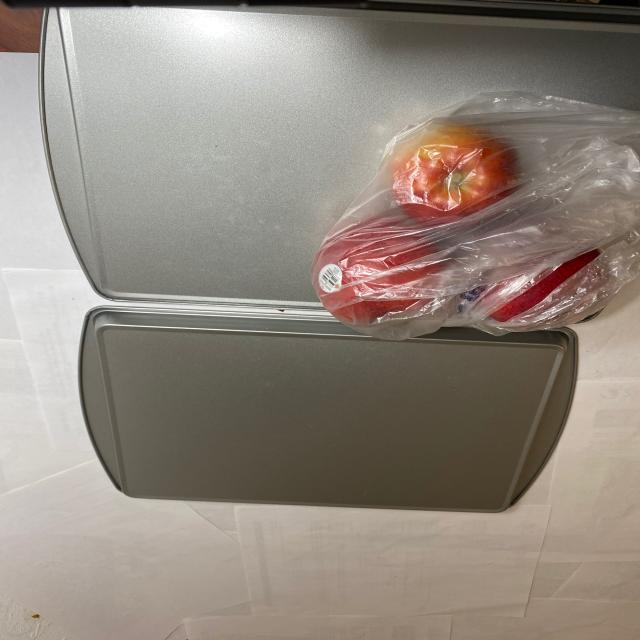apple: (302, 112, 603, 332)
